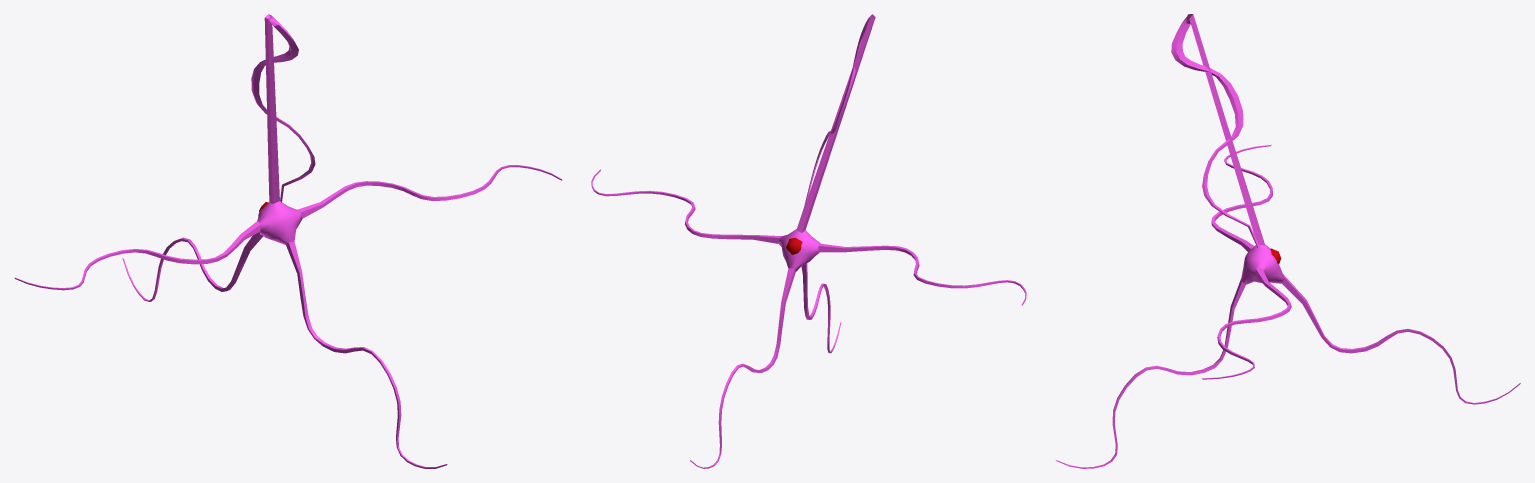
Rendered from Neuro_body.fbx.
3 renders of one model, left to right at view 1: azimuth 30°, elevation 25°; view 2: azimuth 150°, elevation 25°; view 3: azimuth 270°, elevation 25°, orthographic. The views are drawn at different scales.
Parts seen in each view (by area): view 1: Neuron; view 2: Neuron; view 3: Neuron.
Boxes of the visible parts, x1,y1,x2,y2 form: Neuron: (14, 14, 562, 468); Neuron: (591, 14, 1026, 468); Neuron: (1055, 14, 1520, 468).
Size of the model in its own units: 13.13 by 10.72 by 11.
